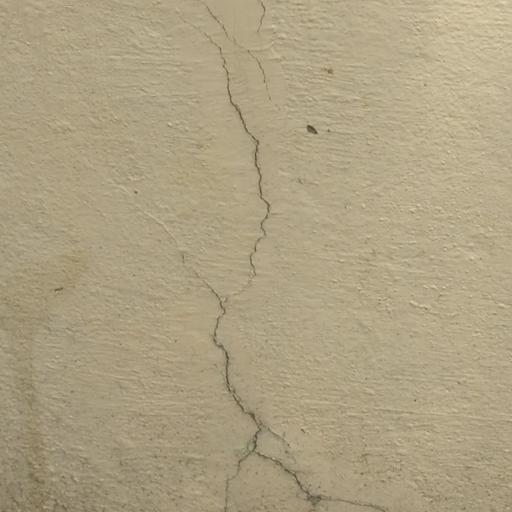minor_crack: (172, 3, 390, 512)
